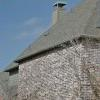Chimney: (45, 0, 68, 25)
